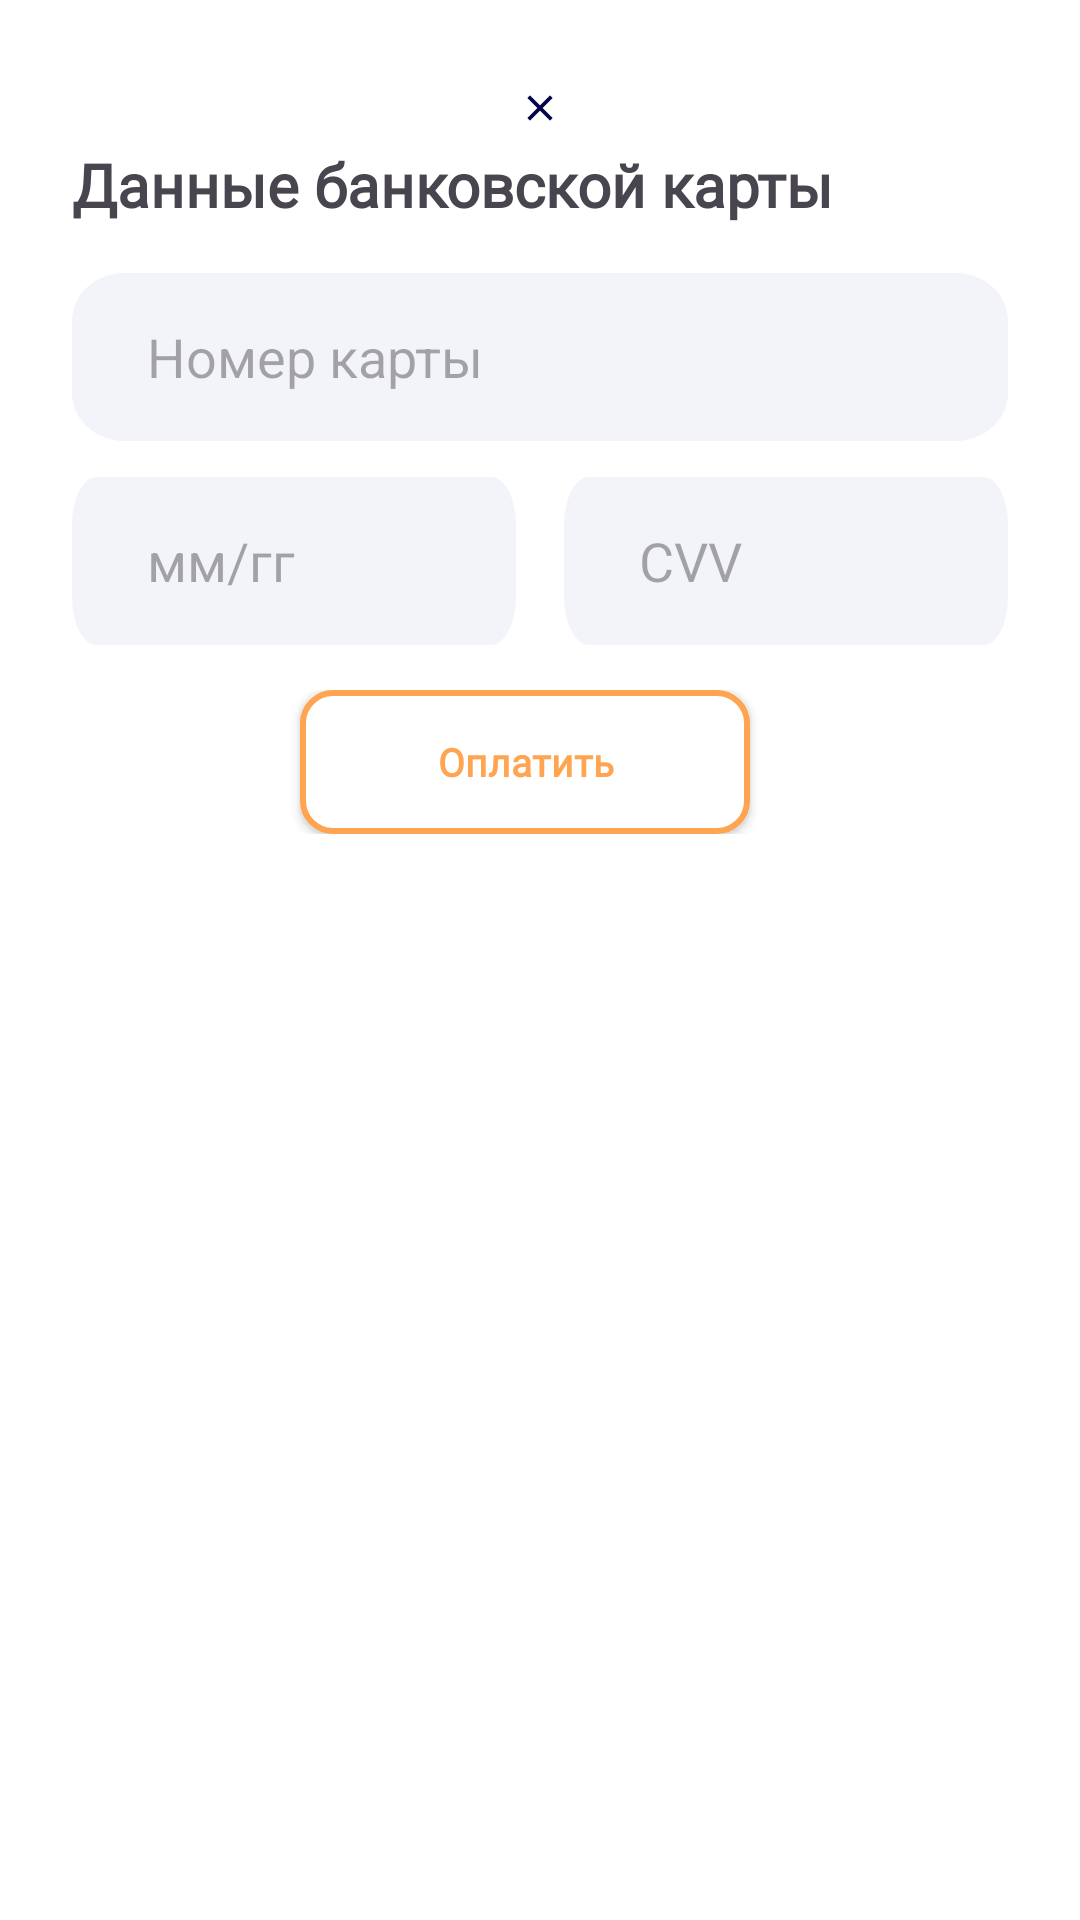

Named icons in this screenshot (1080 x 1920) and their bounding boxes, (x1, y1, x2, y2):
cancel: (527, 95, 553, 121)
